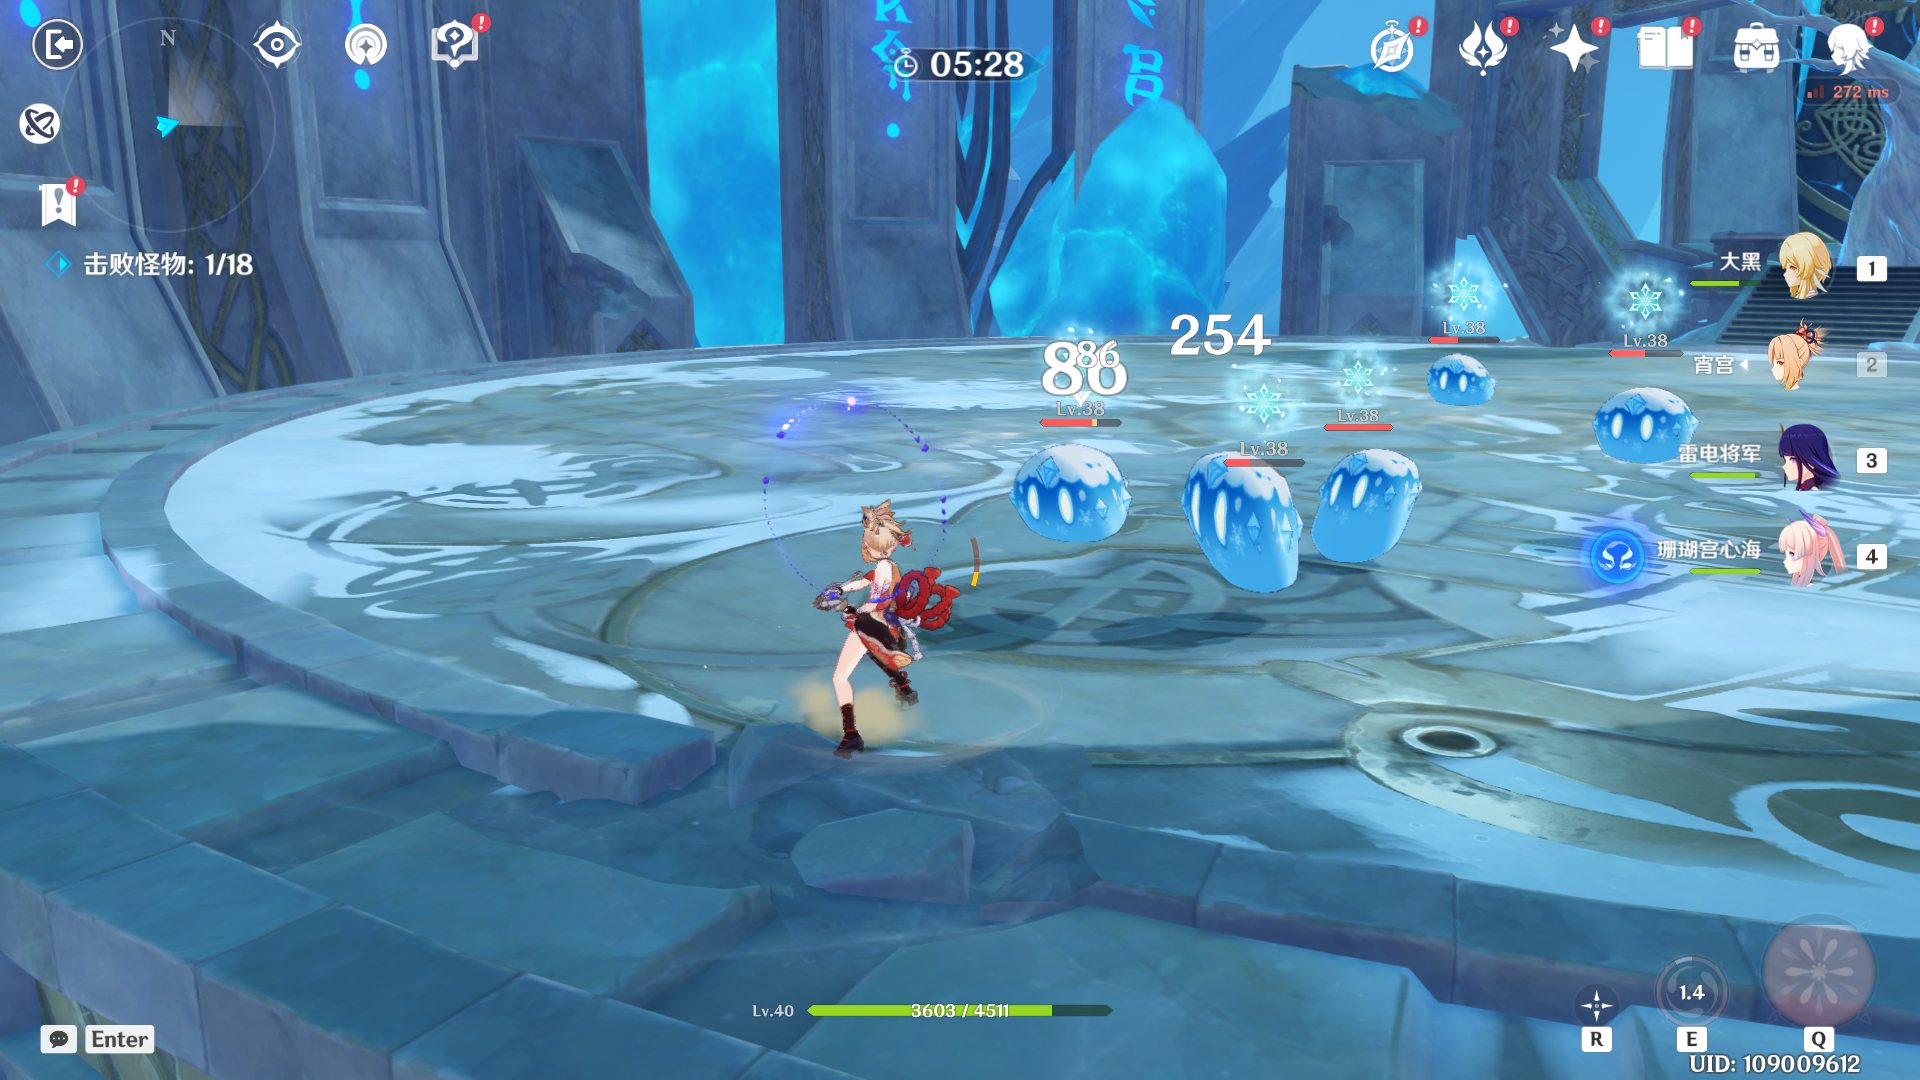character: (758, 495, 996, 781)
slime: (1150, 438, 1319, 613), (1298, 442, 1440, 591), (996, 433, 1138, 568), (1580, 382, 1712, 485), (1422, 338, 1501, 419)
